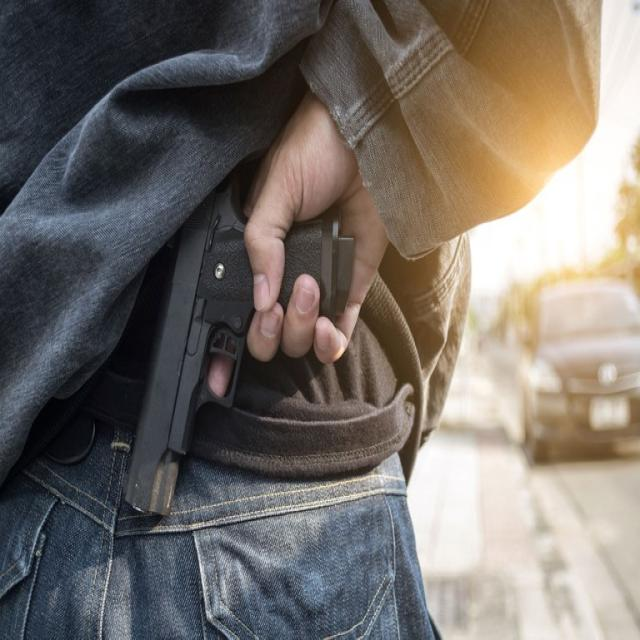HandGun: (126, 182, 355, 517)
